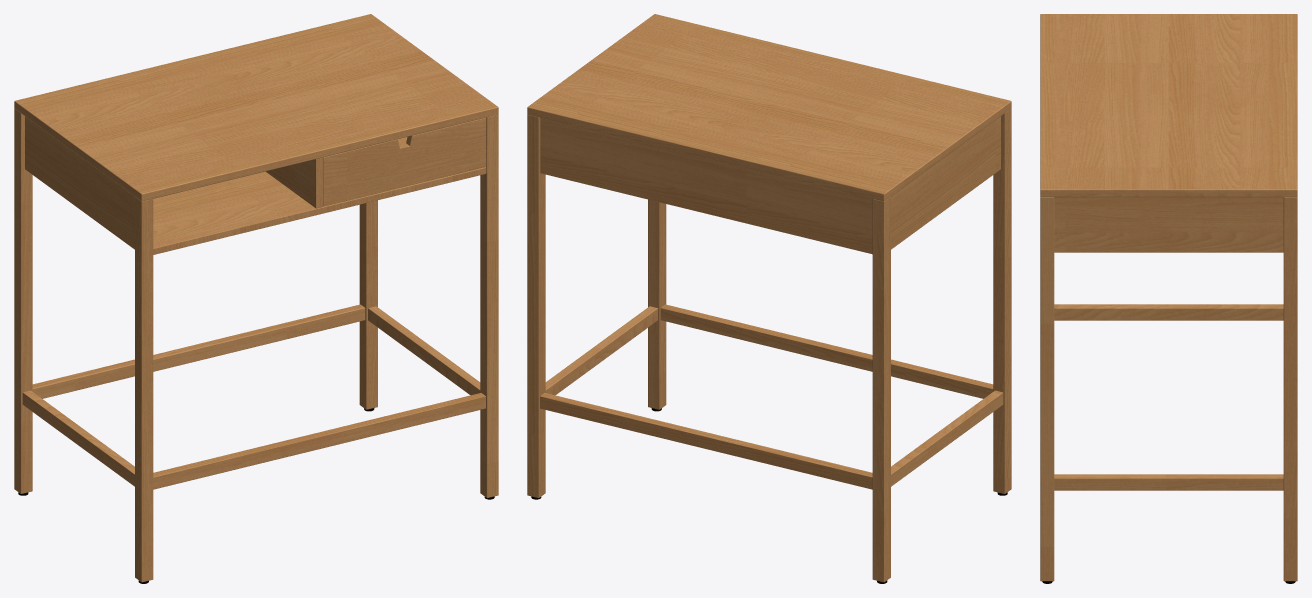
File: table_16.001.fbx
3 renders of one model, left to right at view 1: azimuth 30°, elevation 25°; view 2: azimuth 150°, elevation 25°; view 3: azimuth 270°, elevation 25°, orthographic.
Parts seen in each view (by area): view 1: table_16.001; view 2: table_16.001; view 3: table_16.001.
Part boxes in pixels (left/top/right/bottom): table_16.001: left=14, top=14, right=498, bottom=583; table_16.001: left=527, top=14, right=1011, bottom=583; table_16.001: left=1040, top=14, right=1297, bottom=583.
Size of the model in its own units: 76 by 79.63 by 47.
1 material, 1 textured.
